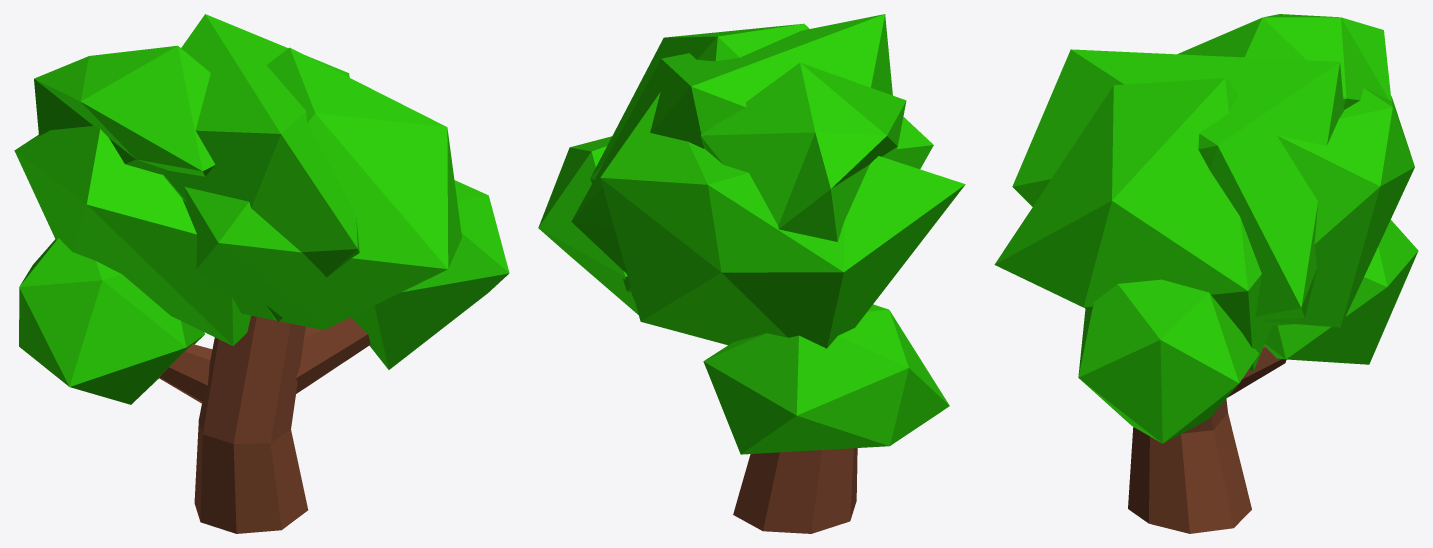
The model's file is Bush.dae.
3 renders of one model, left to right at view 1: azimuth 30°, elevation 25°; view 2: azimuth 150°, elevation 25°; view 3: azimuth 270°, elevation 25°, orthographic. The views are drawn at different scales.
Parts seen in each view (by area): view 1: Leaves_001, Root_001, Leaves_008, Leaves_002, Leaves_007, Leaves_006, Leaves_003; view 2: Leaves_002, Leaves_007, Leaves_006, Leaves_008, Root_001, Leaves_003, Leaves_001; view 3: Leaves_001, Leaves_008, Leaves_003, Leaves_002, Root_001, Leaves_006, Leaves_007.
Boxes of the visible parts, bbox=[...] form: Leaves_001: bbox=[182, 47, 461, 330]; Root_001: bbox=[159, 315, 370, 533]; Leaves_008: bbox=[161, 14, 359, 321]; Leaves_002: bbox=[14, 126, 250, 345]; Leaves_007: bbox=[19, 238, 204, 404]; Leaves_006: bbox=[34, 45, 215, 176]; Leaves_003: bbox=[351, 180, 509, 369]; Leaves_002: bbox=[600, 92, 965, 348]; Leaves_007: bbox=[703, 304, 949, 454]; Leaves_006: bbox=[700, 62, 906, 241]; Leaves_008: bbox=[571, 14, 892, 273]; Root_001: bbox=[733, 448, 857, 533]; Leaves_003: bbox=[538, 136, 638, 314]; Leaves_001: bbox=[590, 23, 933, 291]; Leaves_001: bbox=[994, 78, 1273, 371]; Leaves_008: bbox=[1012, 49, 1344, 325]; Leaves_003: bbox=[1078, 279, 1258, 443]; Leaves_002: bbox=[1265, 88, 1414, 327]; Root_001: bbox=[1128, 346, 1286, 533]; Leaves_006: bbox=[1177, 14, 1391, 109]; Leaves_007: bbox=[1264, 220, 1418, 364].
Bounding box in the file's own units: 2.64 × 2.34 × 2.88.
